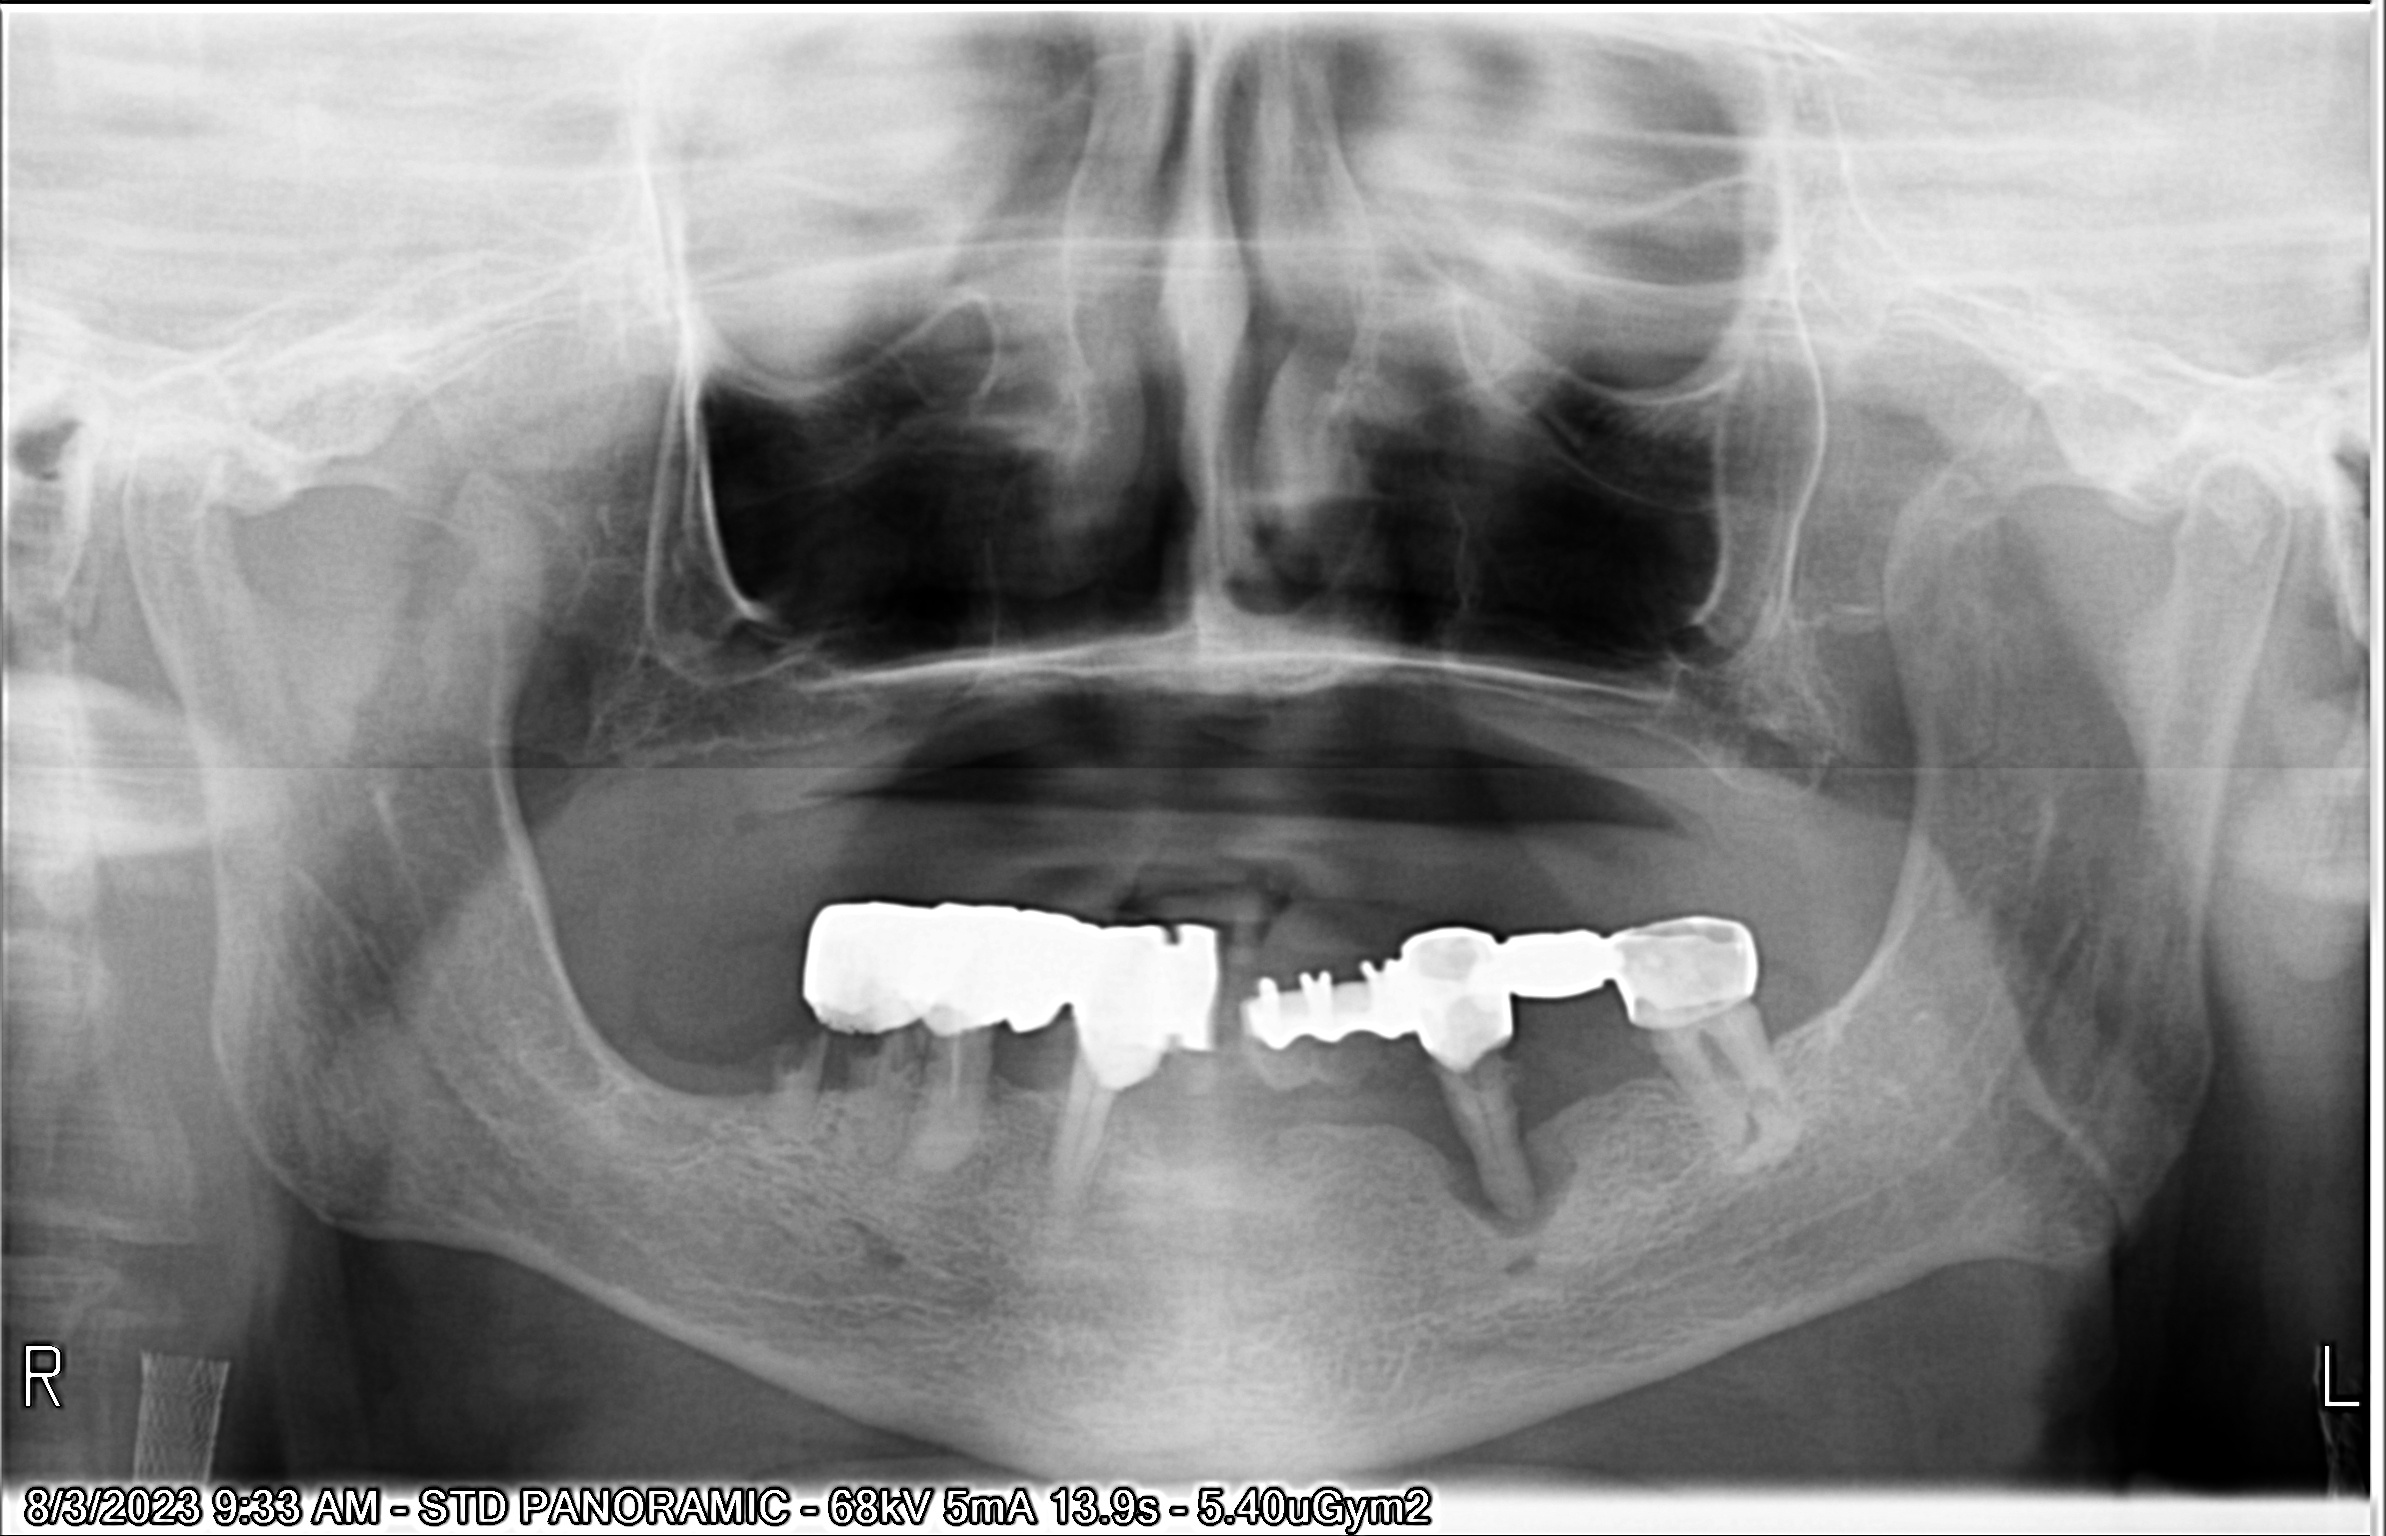API: (1461, 1159, 1579, 1256), (1713, 1120, 1802, 1207), (899, 1162, 1002, 1211)
BON: (1416, 1059, 1452, 1159), (1510, 1063, 1543, 1129), (1631, 1019, 1663, 1089), (1750, 995, 1783, 1056), (838, 1038, 863, 1108), (993, 1016, 1002, 1080)
END: (930, 1035, 963, 1134)
FUR: (1689, 1023, 1746, 1072)
PRR: (1252, 889, 1805, 1028), (810, 894, 1224, 1052)
ROT: (756, 1023, 805, 1138), (875, 1047, 918, 1129)
